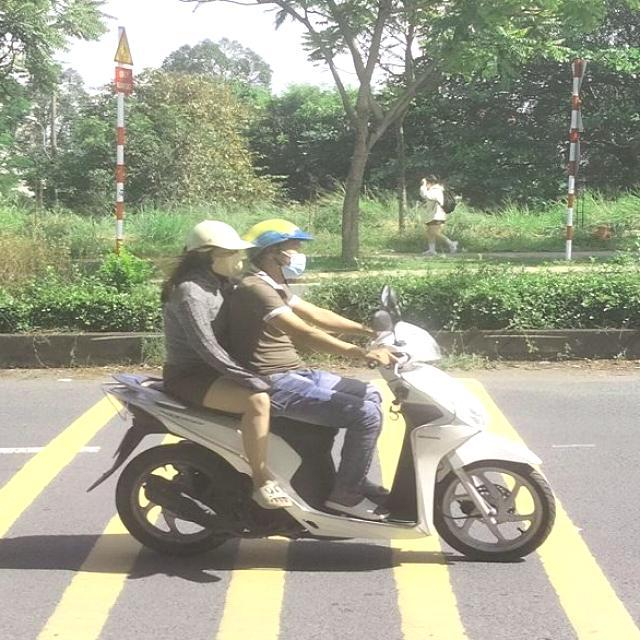Helmet: (247, 218, 312, 284), (187, 218, 243, 282)
